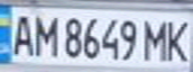4: (100, 15, 121, 61)
6: (78, 13, 103, 60)
8: (60, 13, 84, 60)
9: (118, 16, 142, 62)
A: (6, 10, 39, 56)
K: (163, 16, 193, 63)
M: (139, 16, 172, 62), (30, 11, 60, 57)
